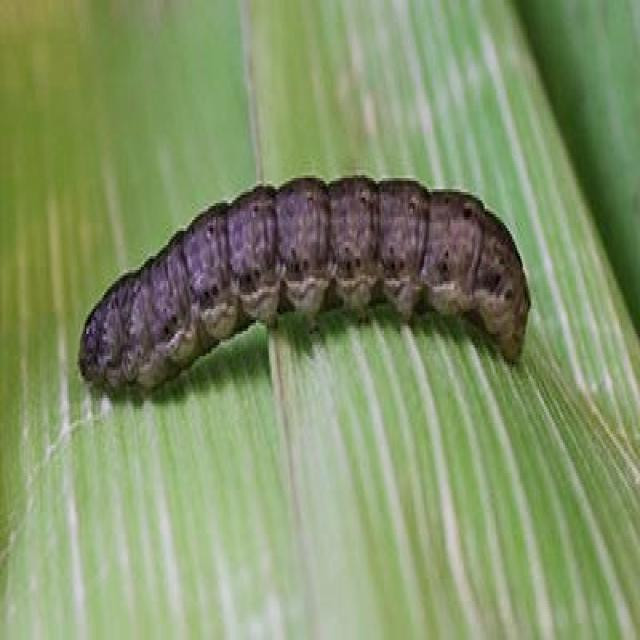black cutworm: (72, 158, 544, 406)
